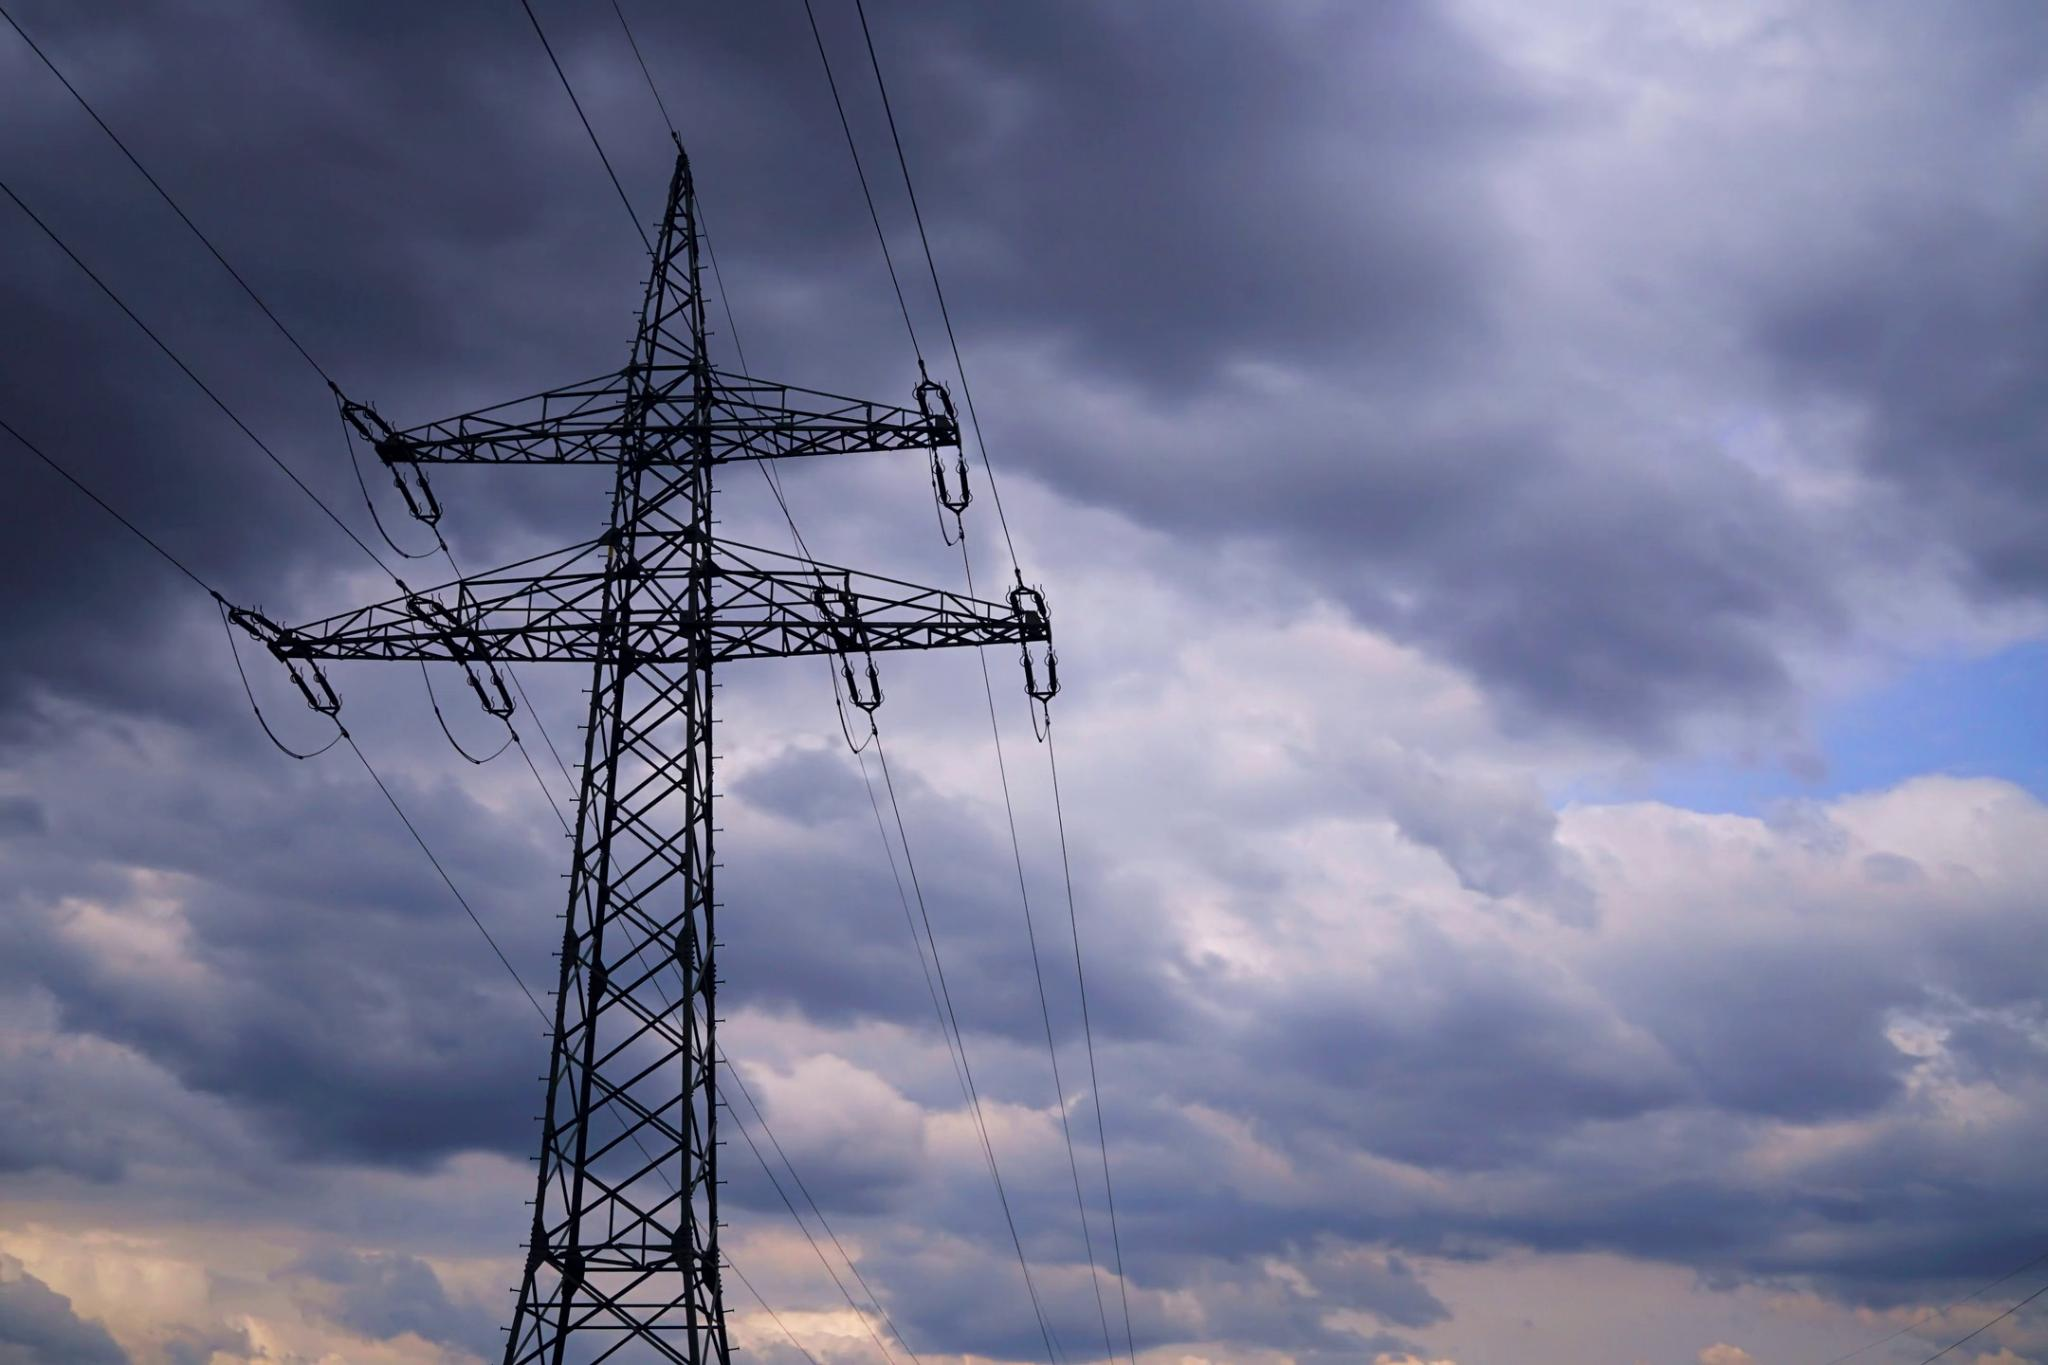cable tower: (177, 43, 1124, 1365)
